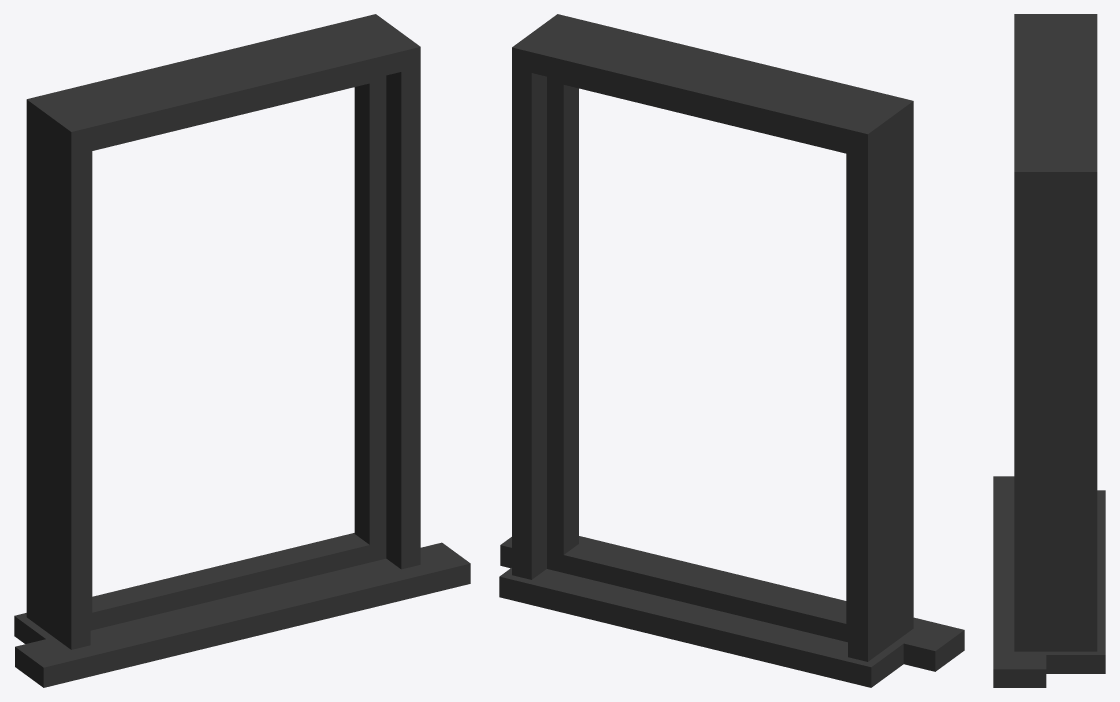
File: Window6_01.fbx
3 views of the same model, side by side, from view 1: azimuth 30°, elevation 25°; view 2: azimuth 150°, elevation 25°; view 3: azimuth 270°, elevation 25° (orthographic). The views are drawn at different scales.
Visible parts, largest first — view 1: Window6_01; view 2: Window6_01; view 3: Window6_01.
Part boxes in pixels (bbox=[...]): Window6_01: bbox=[14, 14, 470, 687]; Window6_01: bbox=[499, 14, 964, 687]; Window6_01: bbox=[993, 14, 1105, 687].
Size of the model in its own units: 1.1 by 1.33 by 0.27.
